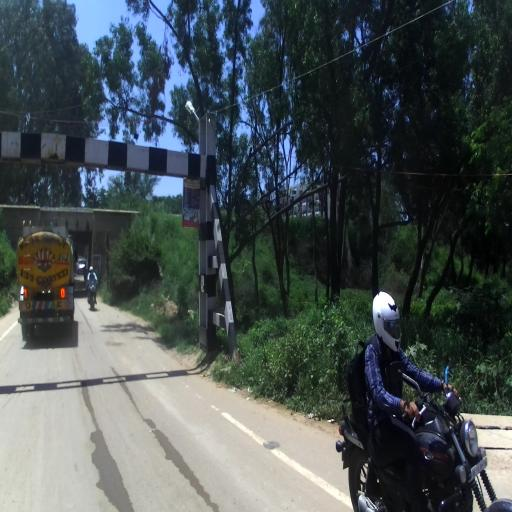street_light_0: (185, 101, 200, 124)
